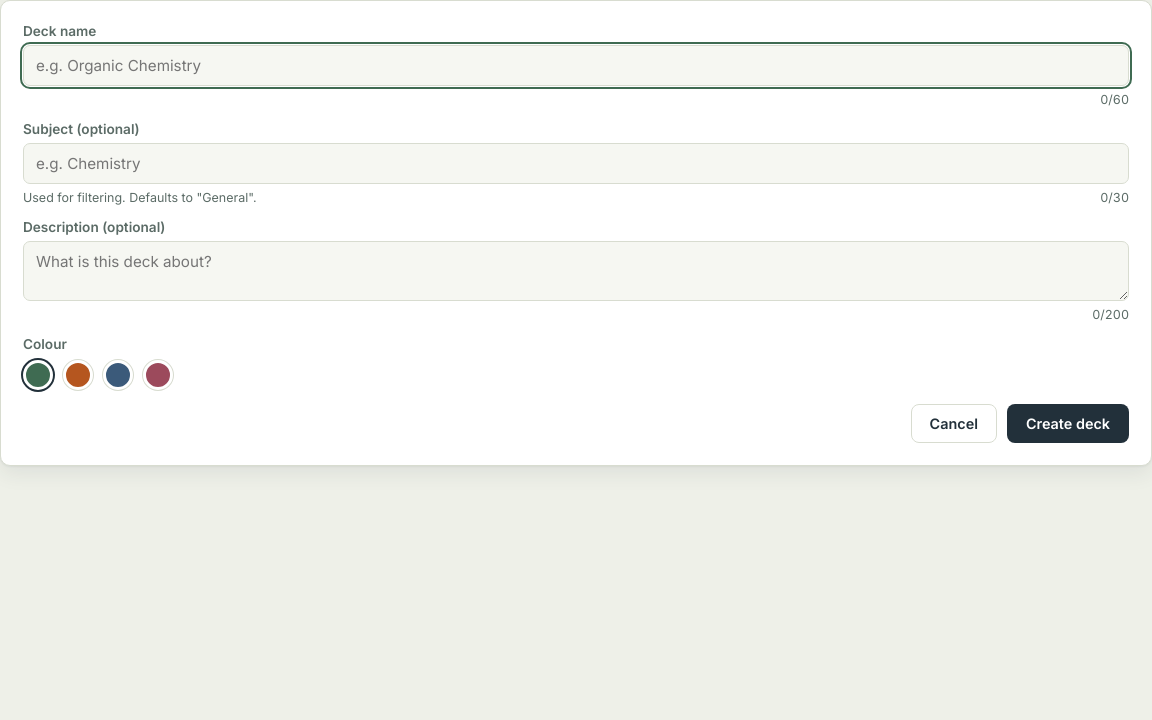
Test: <DeckForm /> › displays server-side field errors
Type "Biology" into the field labelled "Deck name" at (576, 66), box [23,45,1129,86]
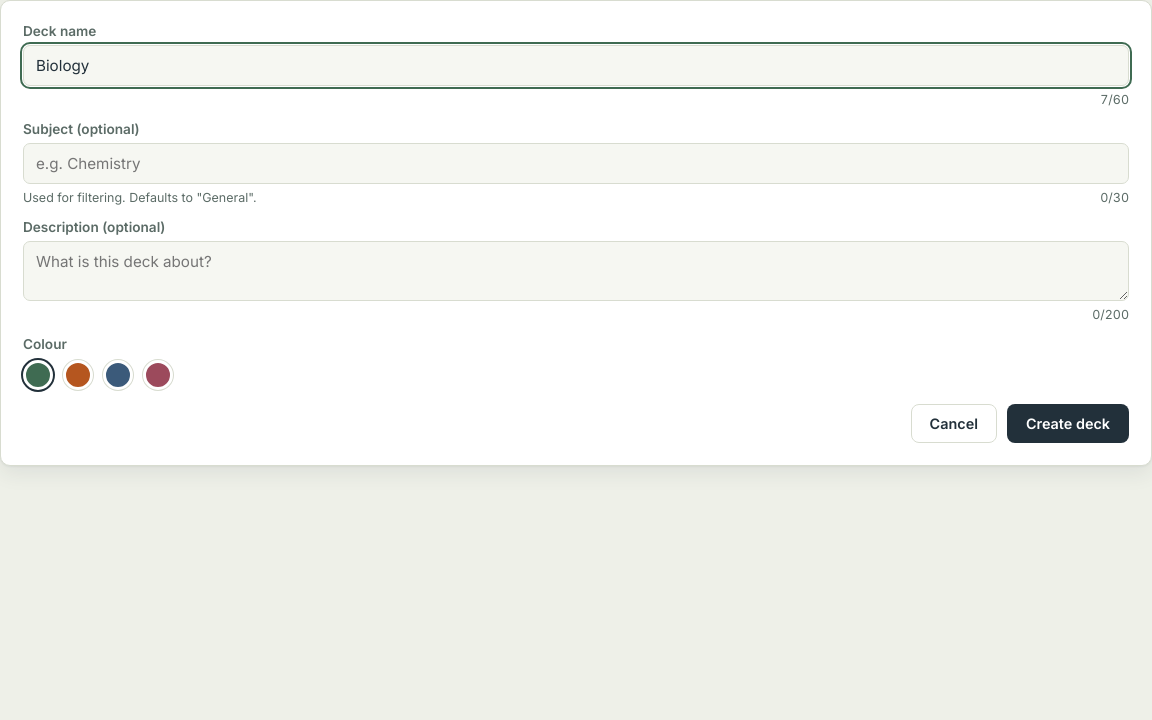
Click the button "Create deck" at (1068, 424), box [1007,404,1129,443]
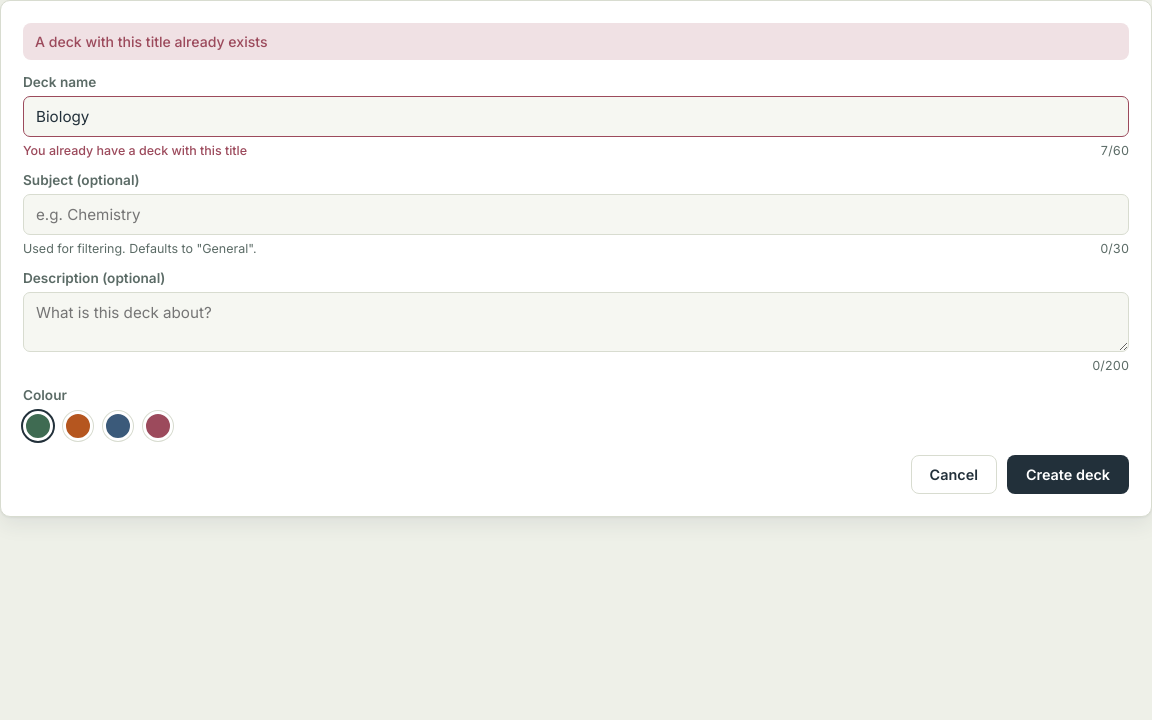
Expected: the text "You already have a deck with this title" is shown, [23,143,247,158]
Expected: the text "A deck with this title already exists" is shown, [23,23,1129,60]
